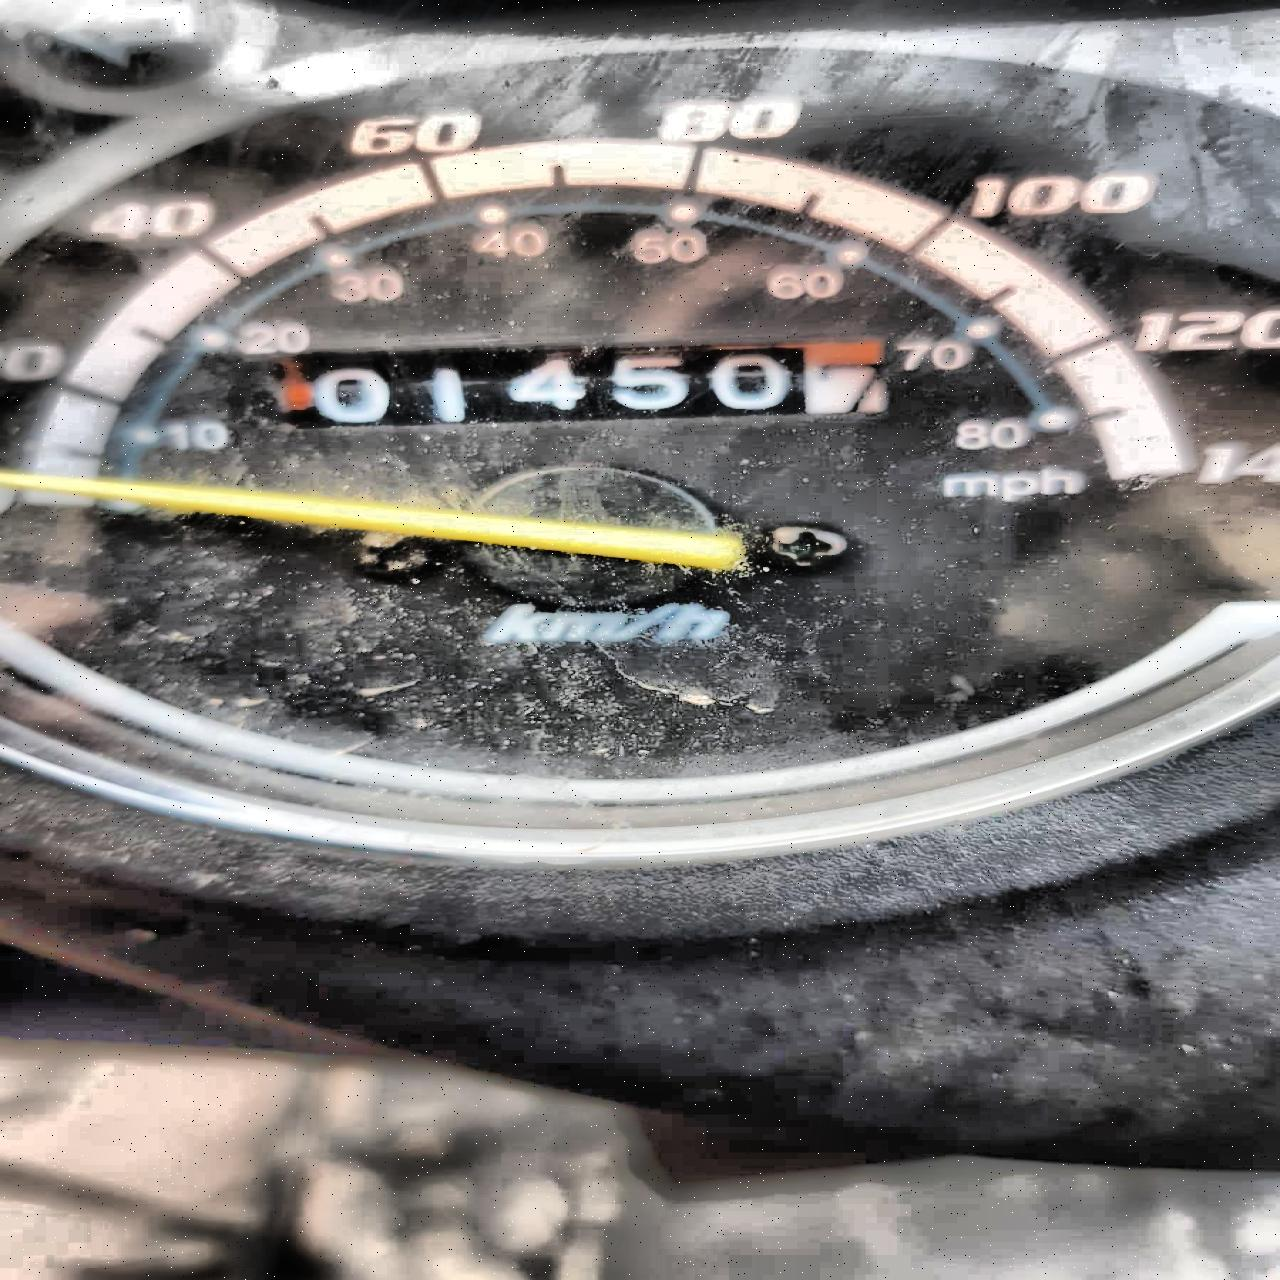0: (713, 350, 789, 415), (312, 365, 396, 422), (278, 325, 313, 350)
1: (428, 358, 479, 423)
2: (245, 325, 278, 355)
4: (504, 354, 588, 410)
5: (611, 354, 696, 415)
7: (810, 356, 888, 415)
odometer: (257, 331, 906, 435)
